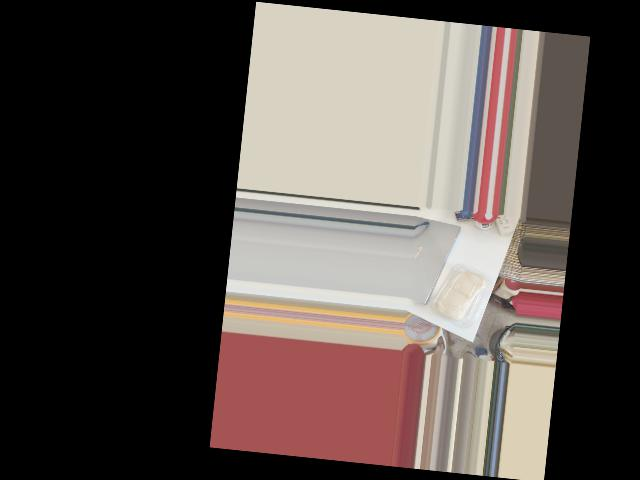cheese: (428, 258, 493, 335)
